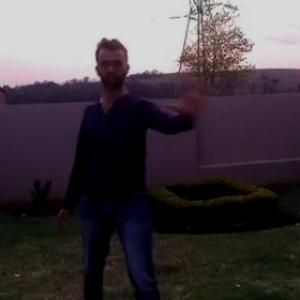follow_hand: (166, 74, 211, 120)
